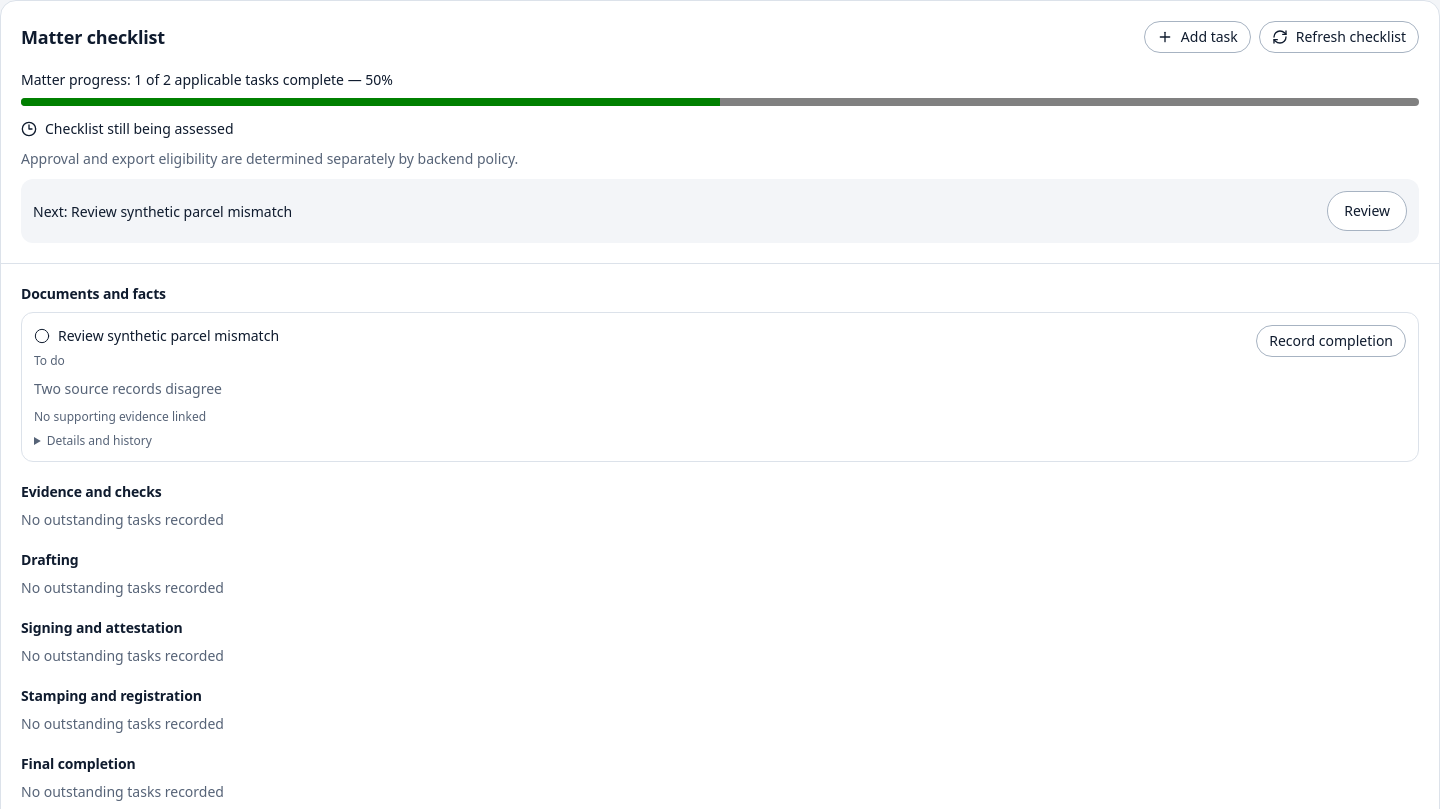
Test: requires deliberate refresh after a changed task and retains previous history
This screenshot has width=1440, height=809.
Click the button "Record completion" at (1331, 341), box [1256,325,1406,357]
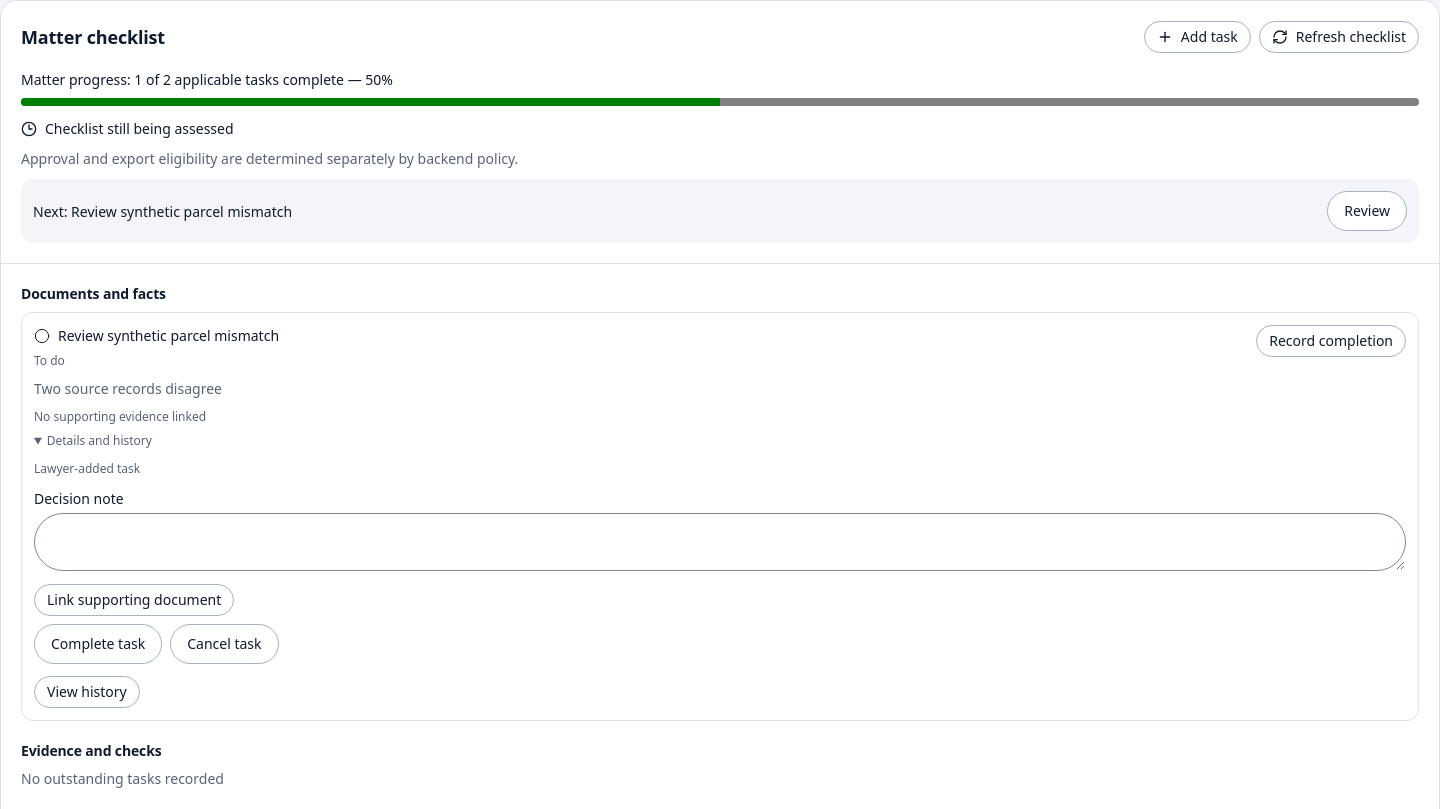
Click the button "View history" at (87, 692), box [34,676,140,708]
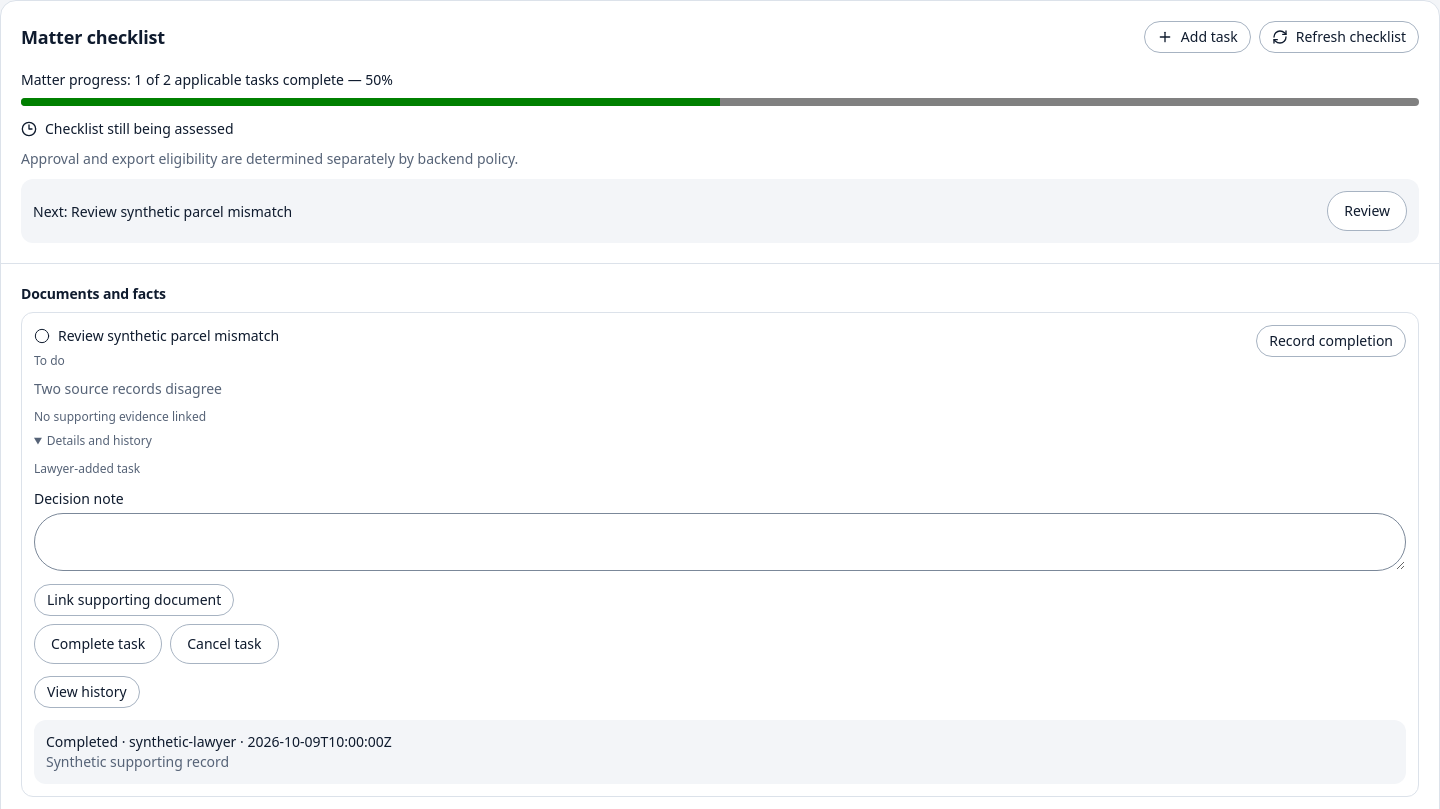
Result: the text "Synthetic supporting record" is shown at [46,752,229,770]
Click the button "Complete task" at (98, 644), box [34,624,162,664]
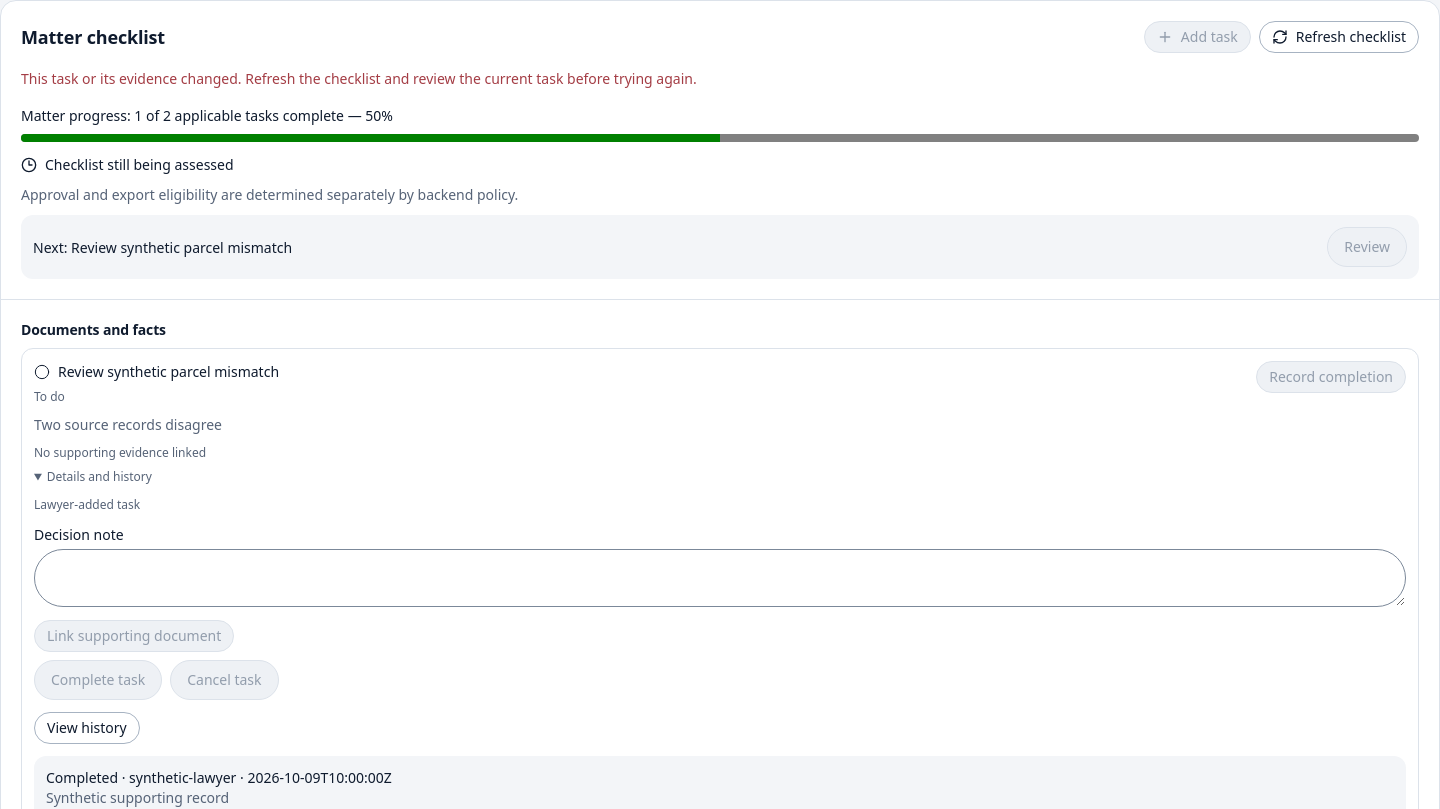
Result: the message is shown at [21,69,697,88]
Result: the button "Complete task" is disabled at [34,660,162,700]
Click the button "Refresh checklist" at (1339, 37), box [1259,21,1419,53]
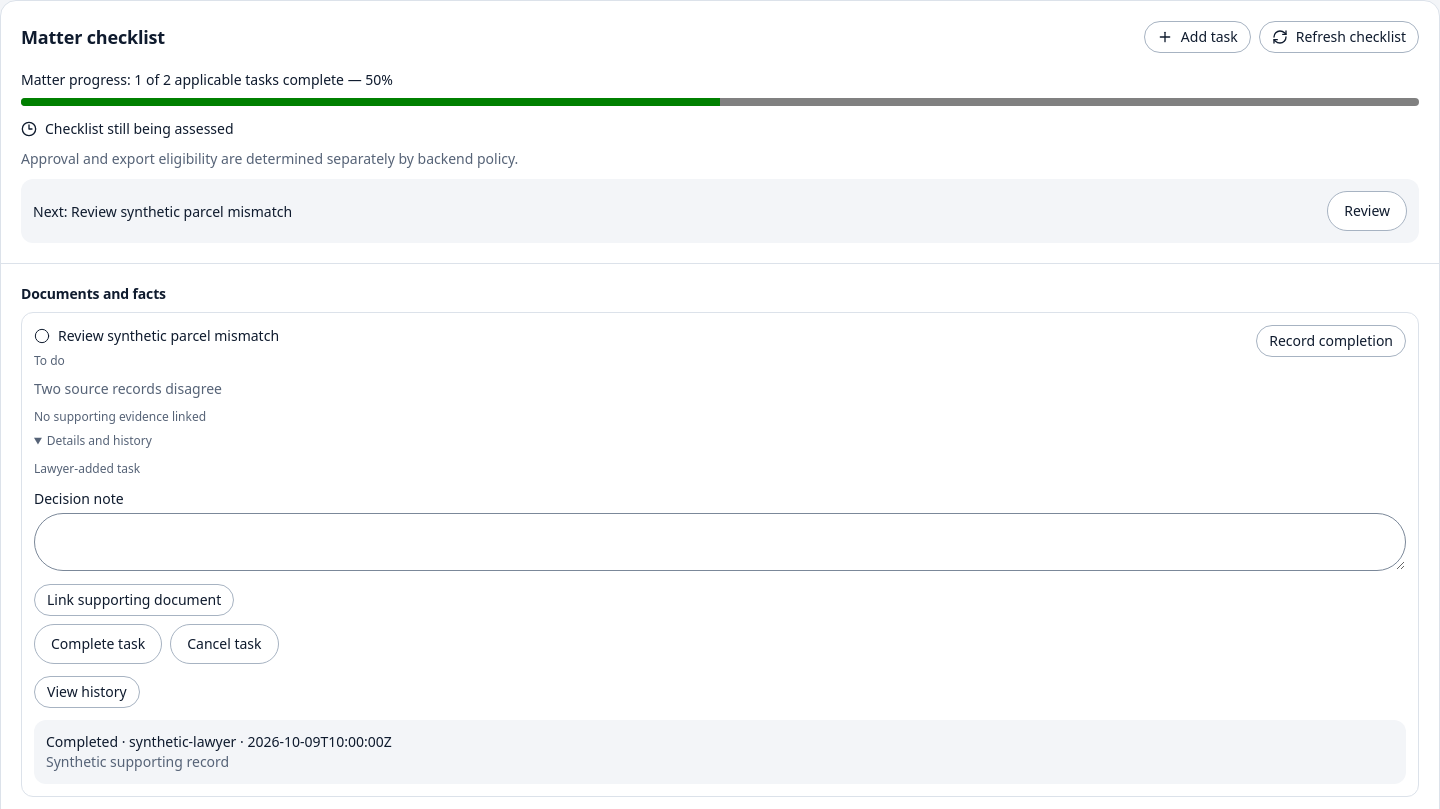
Result: the button "Complete task" is enabled at [34,624,162,664]
